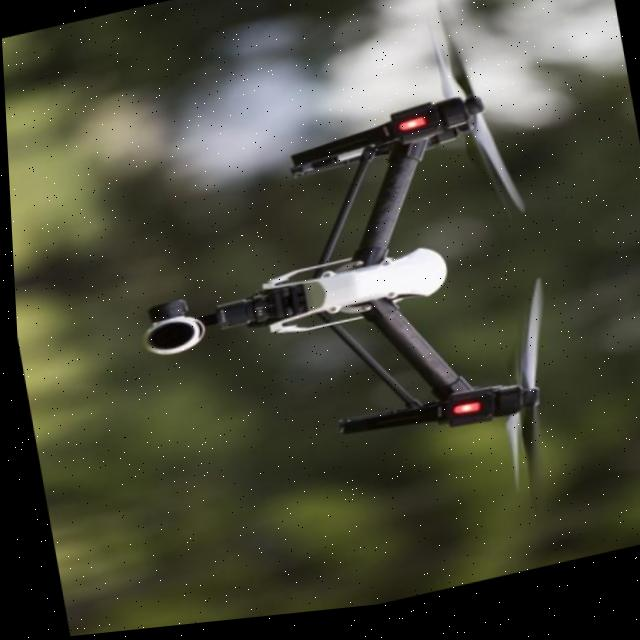drones: (83, 0, 600, 626)
